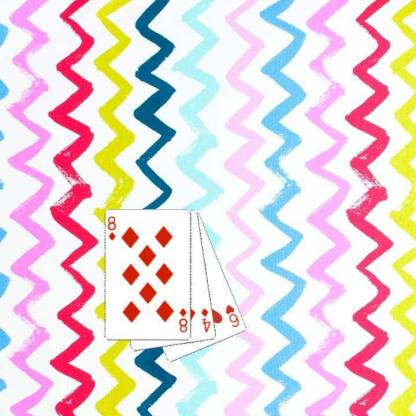4D: (199, 306, 212, 334)
6H: (223, 302, 241, 329)
8D: (176, 306, 188, 334), (106, 214, 118, 242)
